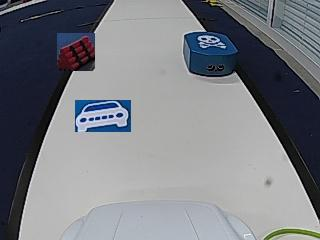danger: (197, 34, 226, 48)
